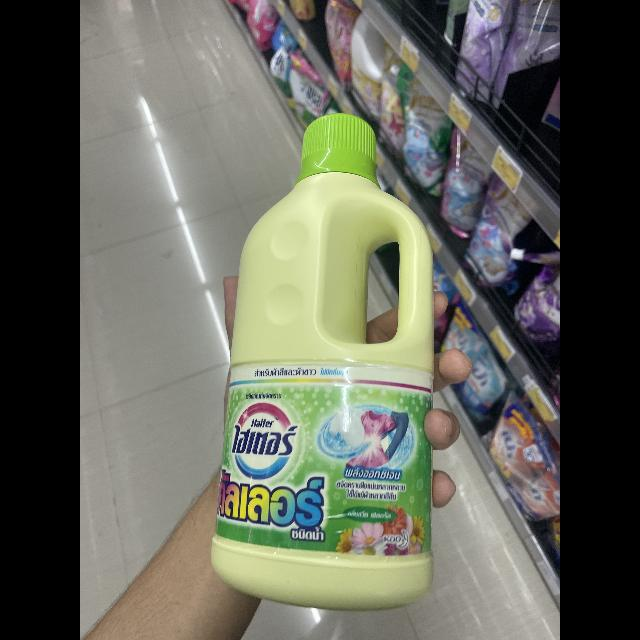chemical_plastic_bottle: (202, 105, 444, 612)
